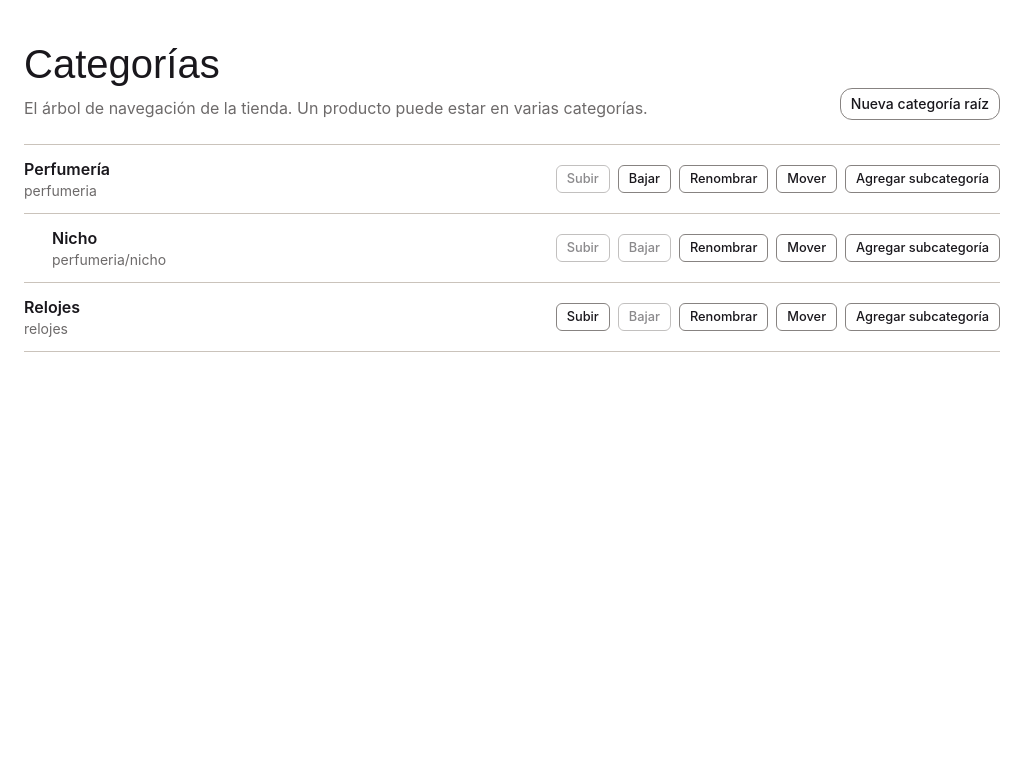
Test: RF-CAT-03 · reubicar una categoría › muestra el rechazo de la API y deja el diálogo abierto
Click the button with aria-label "Mover Nicho".
click(807, 248)  # box [776,234,837,262]
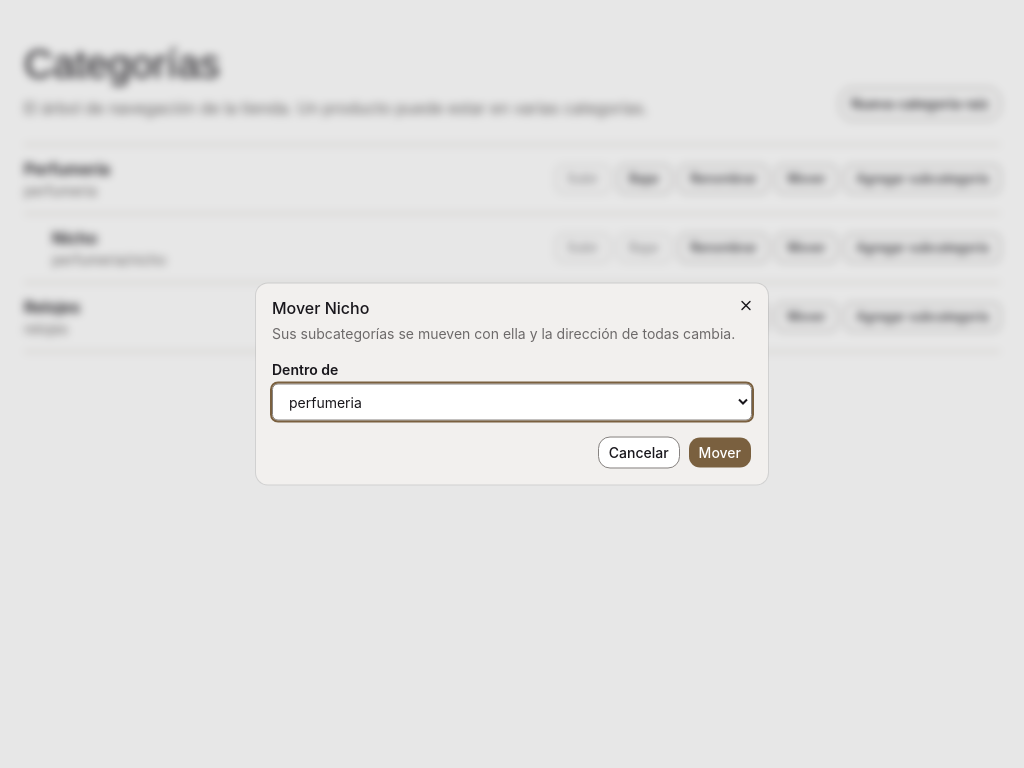
Select "relojes" in the dropdown labelled "Dentro de" at (512, 402), box [272,384,752,420]
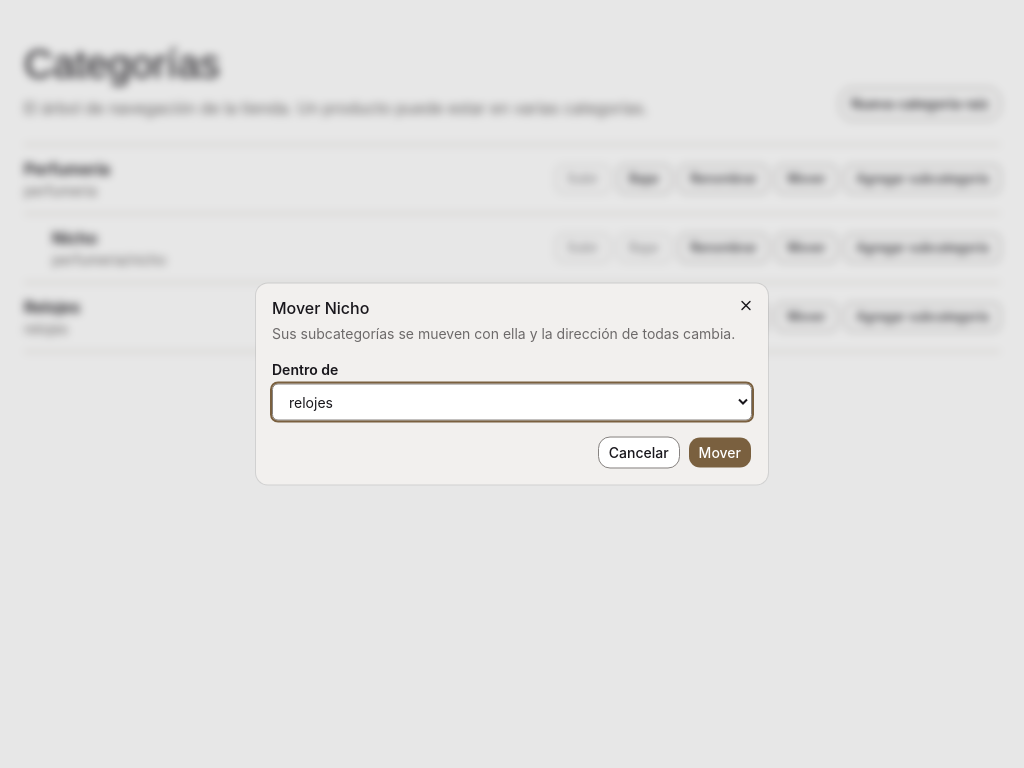
Click the button "Mover".
click(720, 452)  # box [688,436,752,468]
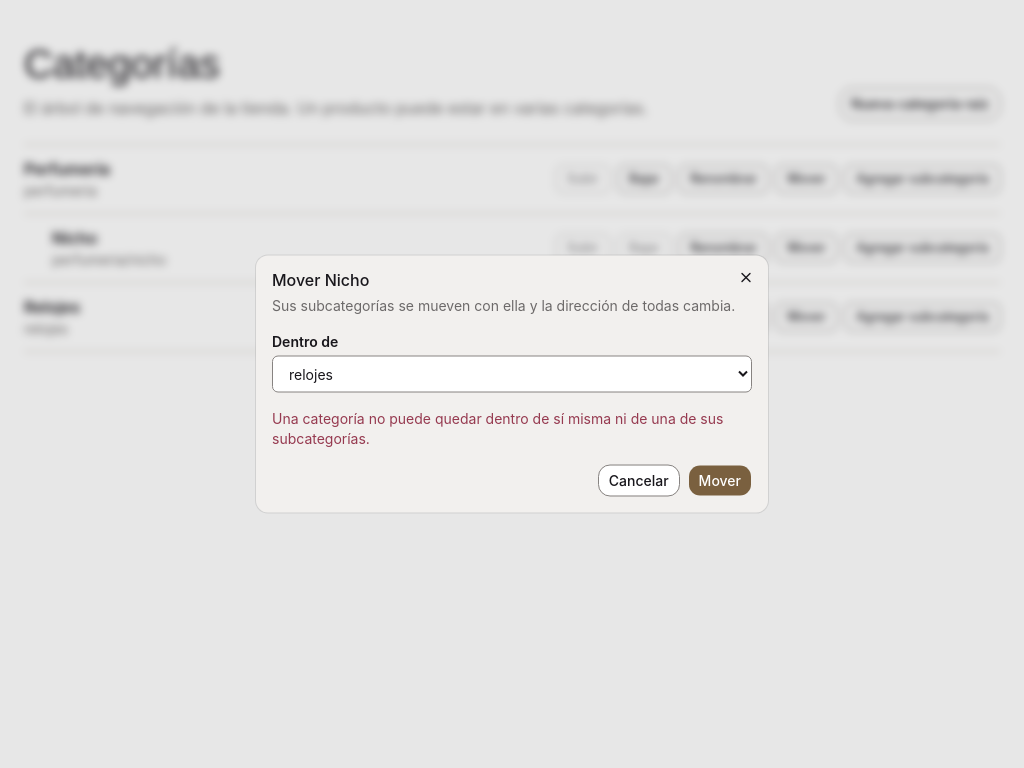
Expected: the text "Una categoría no puede quedar dentro de sí misma ni de una de sus subcategorías." is shown, [272,408,752,448]
